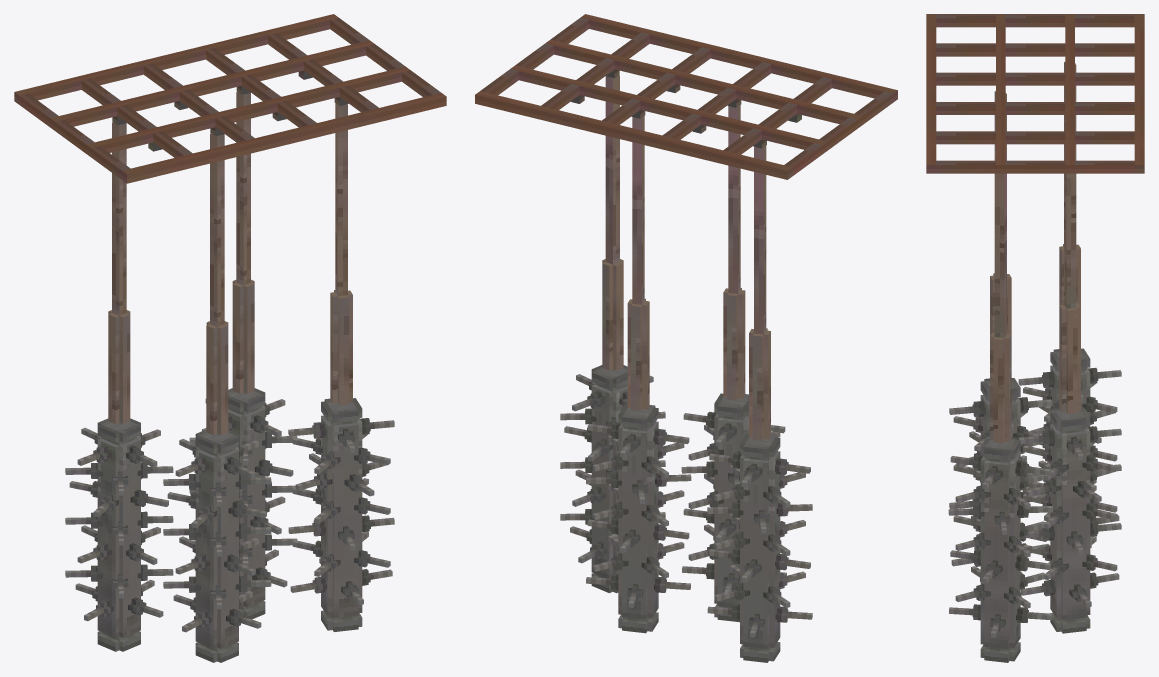
File: trap-8.glb
3 views of the same model, side by side, from view 1: azimuth 30°, elevation 25°; view 2: azimuth 150°, elevation 25°; view 3: azimuth 270°, elevation 25° (orthographic). The views are drawn at different scales.
Visible parts, largest first — view 1: base-Local; view 2: base-Local; view 3: base-Local.
Boxes of the visible parts, bbox=[...] form: base-Local: bbox=[14, 14, 446, 662]; base-Local: bbox=[475, 14, 897, 662]; base-Local: bbox=[926, 14, 1144, 662].
Bounding box in the file's own units: 1.64 × 2.64 × 1.
4 materials, 4 textured.
